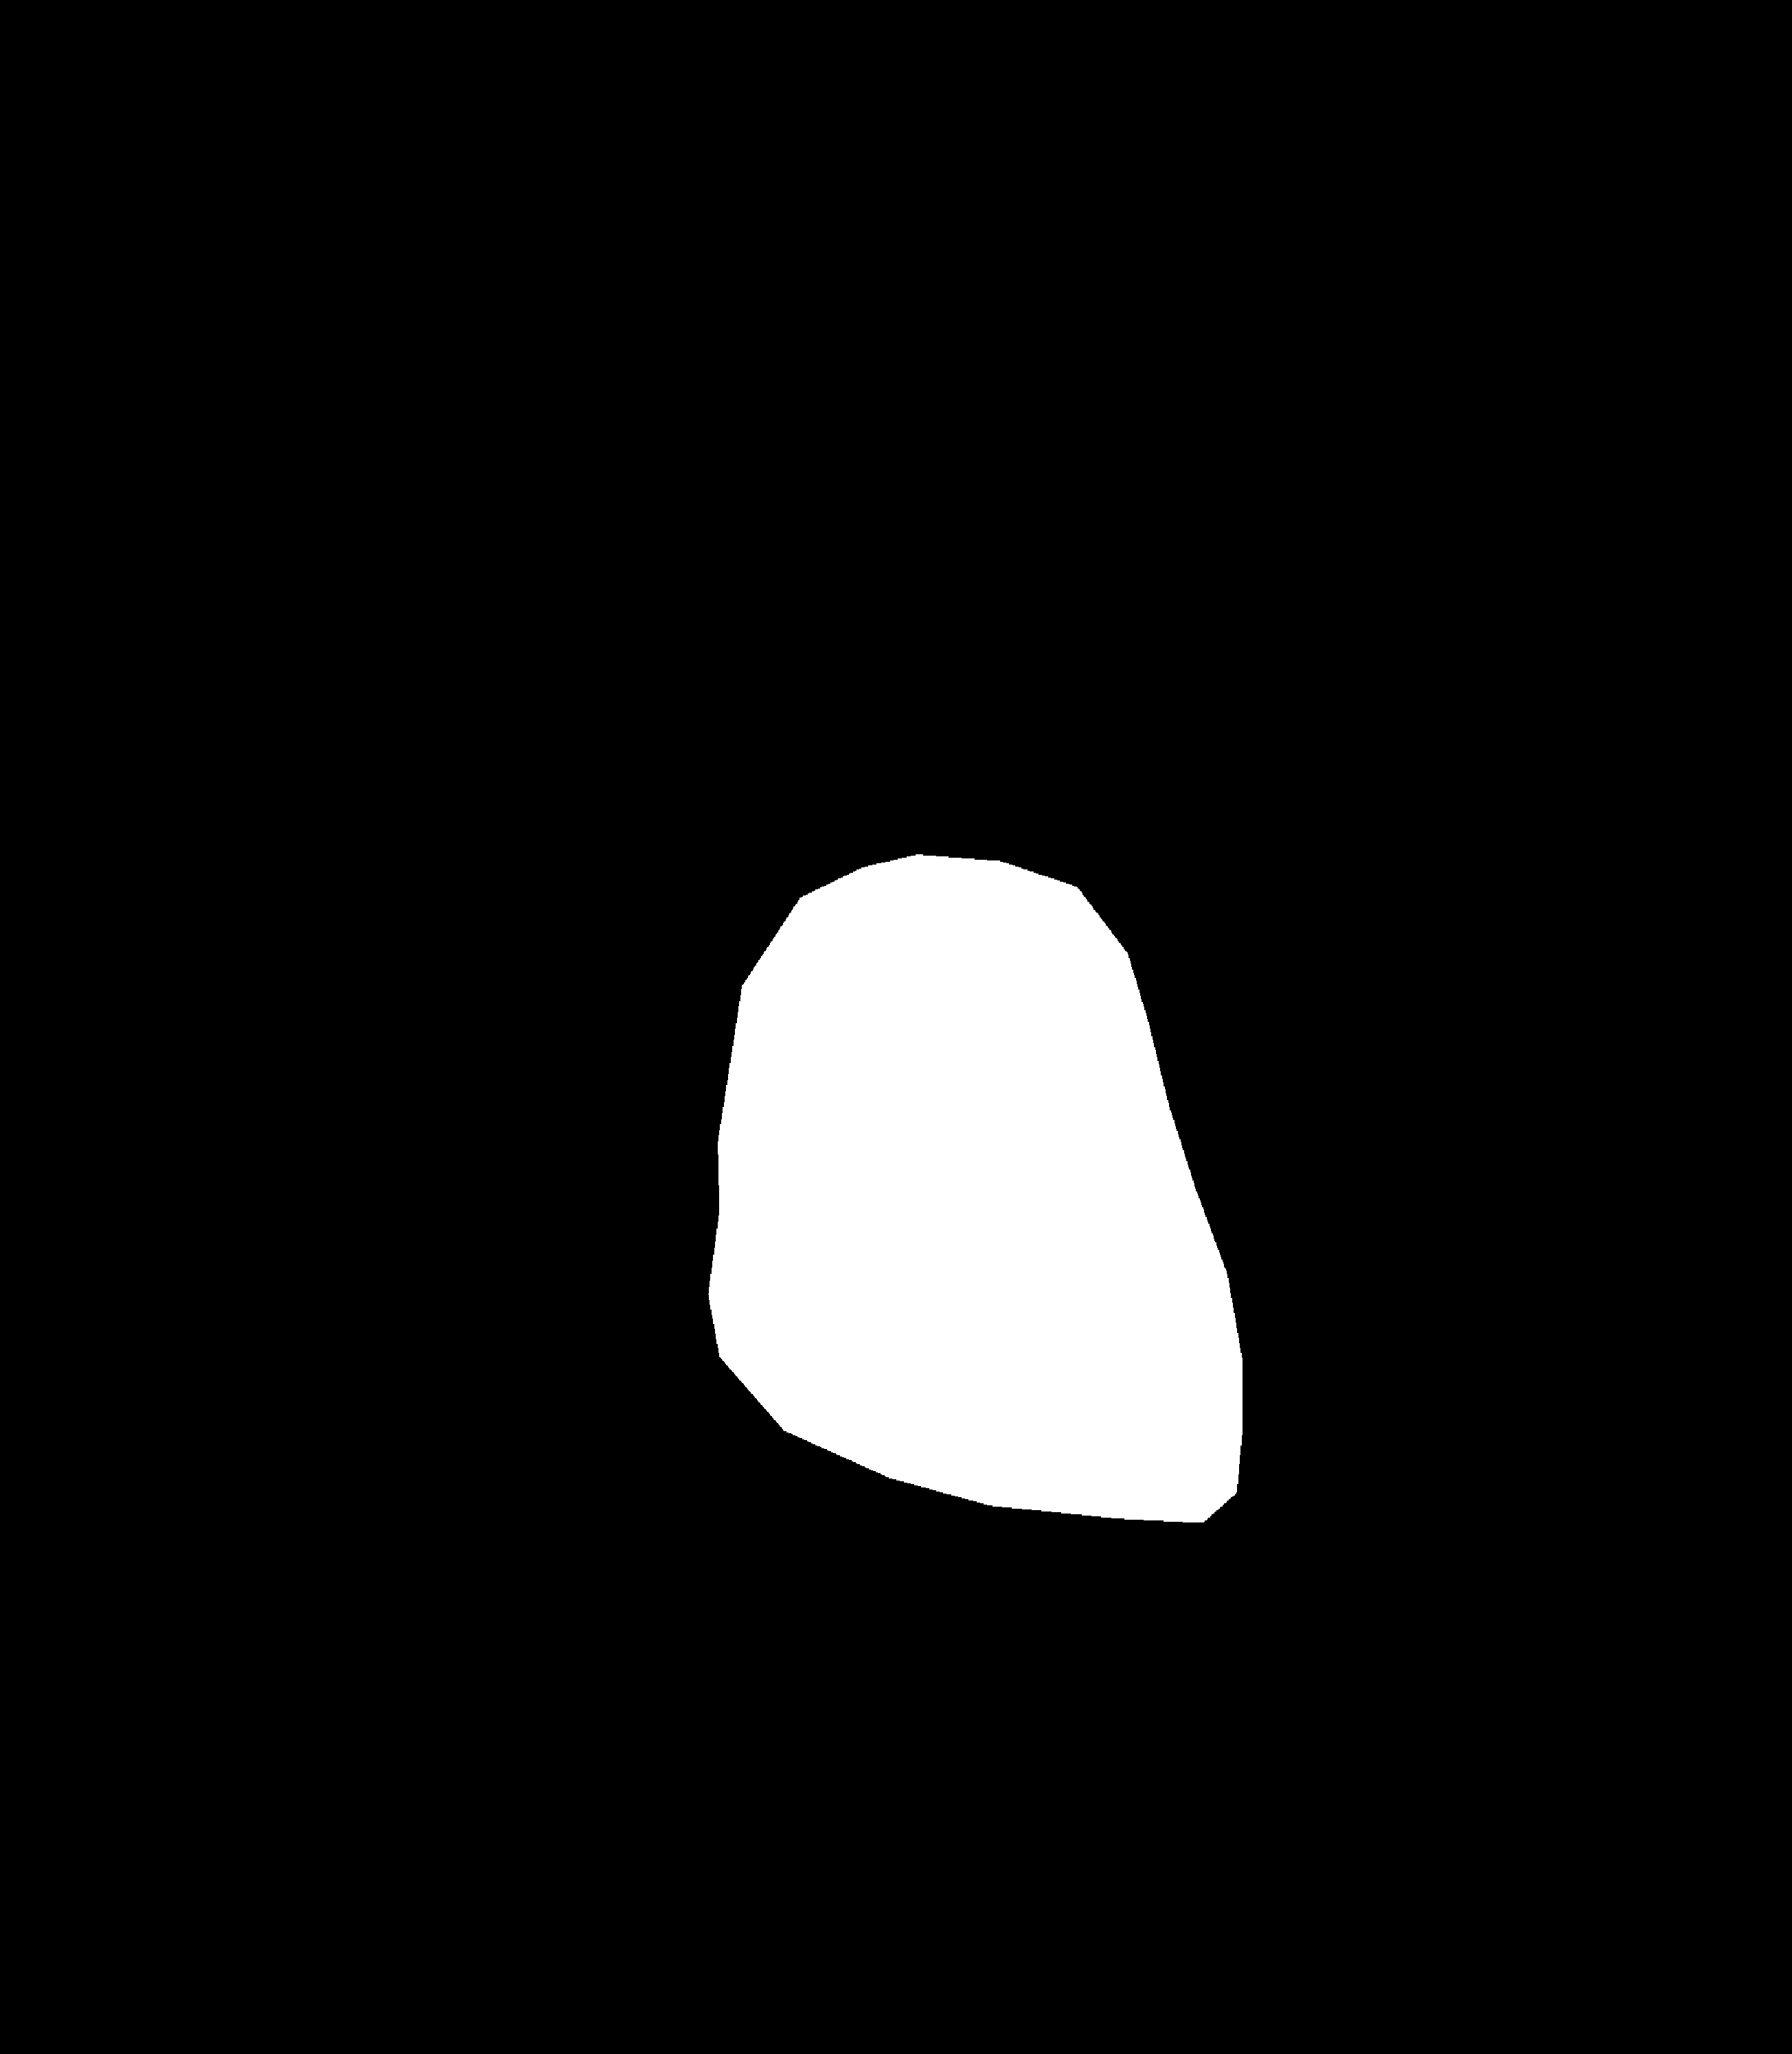heart: (711, 1030, 1252, 1591)
left_lung: (206, 271, 863, 1591)
right_lung: (1024, 281, 1595, 1783)
